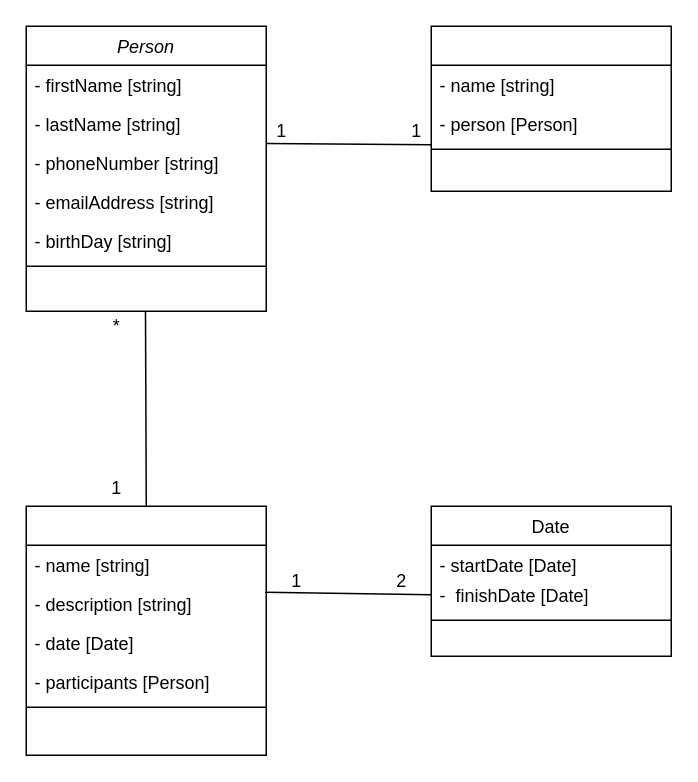
The diagram is 698 pixels wide and 782 high, and some of its shapes have lost their labels. The box of each missing label's shape, as (x1, y1, x2, y2) in pixels:
Activity: (25, 505, 266, 755)
Agenda: (430, 25, 671, 191)
